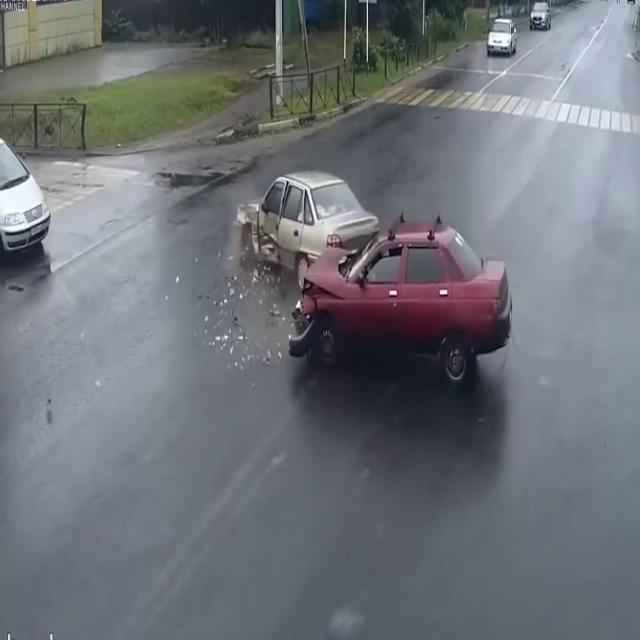accident: (209, 156, 523, 400)
